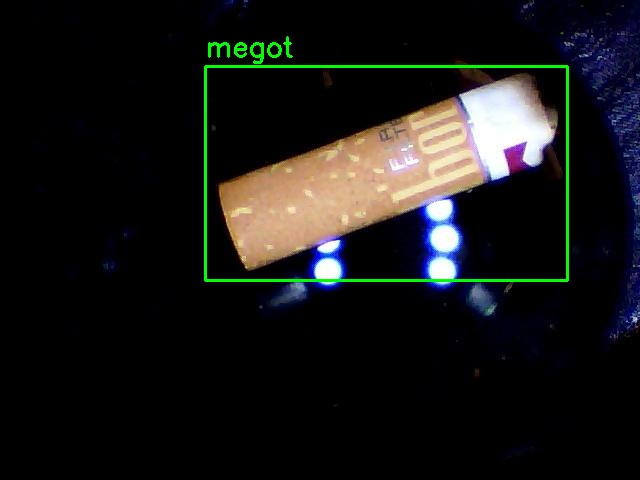megot: (205, 66, 567, 280)
